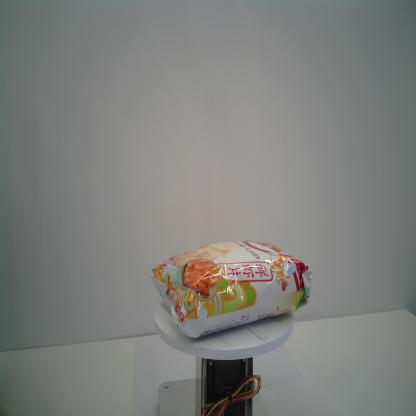Puffed Food: (147, 239, 314, 339)
